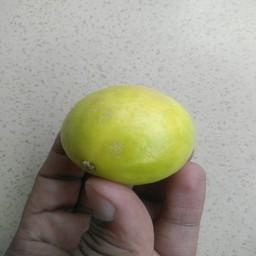Good_lime: (54, 73, 200, 184)
